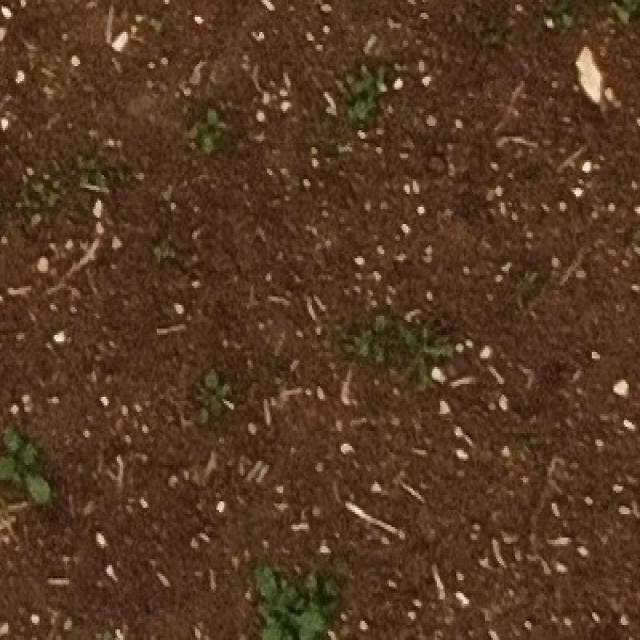cirse: (373, 313, 435, 396), (376, 325, 438, 406), (401, 329, 462, 409)
